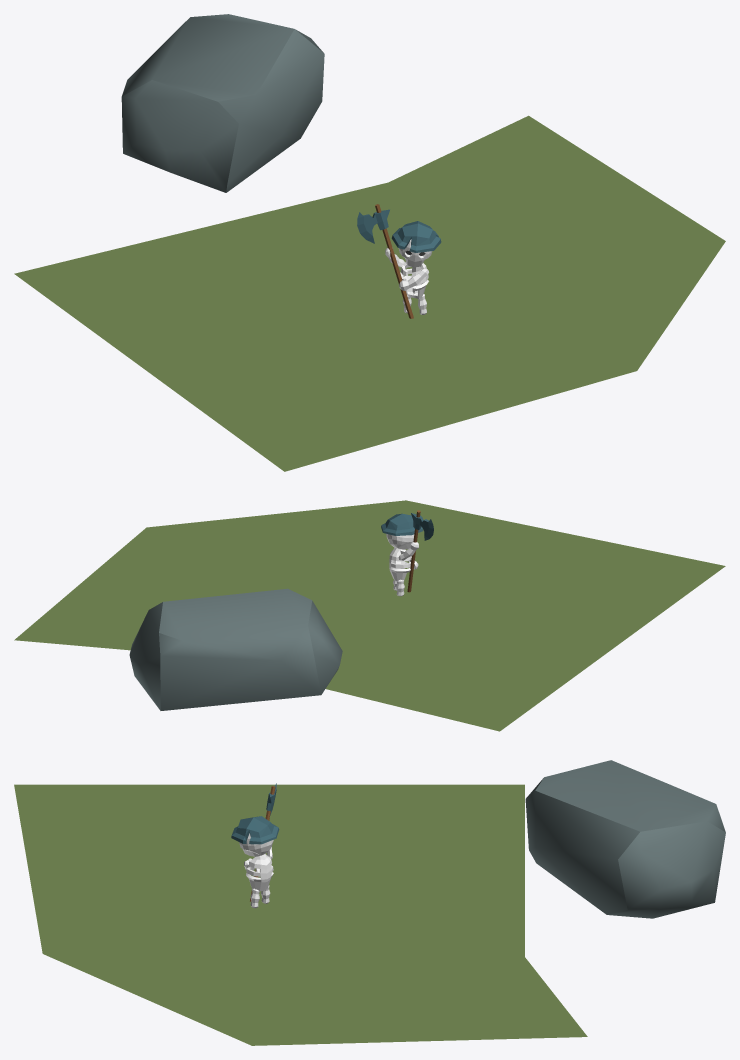
The picture shows the model from 3 angles, top to bottom: view 1: azimuth 30°, elevation 25°; view 2: azimuth 150°, elevation 25°; view 3: azimuth 270°, elevation 25°; orthographic projection. The views are drawn at different scales.
Parts seen in each view (by area): view 1: Plane066_green3_0, Box887_rock_0, Head107_metal_0; view 2: Plane066_green3_0, Box887_rock_0, Head107_metal_0, Sphere189_white_0; view 3: Plane066_green3_0, Box887_rock_0, Head107_metal_0, Sphere189_white_0.
Part boxes in pixels (x1,y1,x2,y2): Plane066_green3_0: (14, 115, 725, 471); Box887_rock_0: (121, 14, 324, 192); Head107_metal_0: (391, 221, 441, 252); Plane066_green3_0: (14, 500, 725, 731); Box887_rock_0: (129, 588, 342, 710); Head107_metal_0: (381, 513, 423, 535); Sphere189_white_0: (389, 547, 410, 580); Plane066_green3_0: (14, 784, 587, 1045); Box887_rock_0: (525, 760, 725, 918); Head107_metal_0: (231, 816, 279, 844); Sphere189_white_0: (246, 854, 273, 891).
Size of the model in its own units: 1123 by 224 by 1293.
